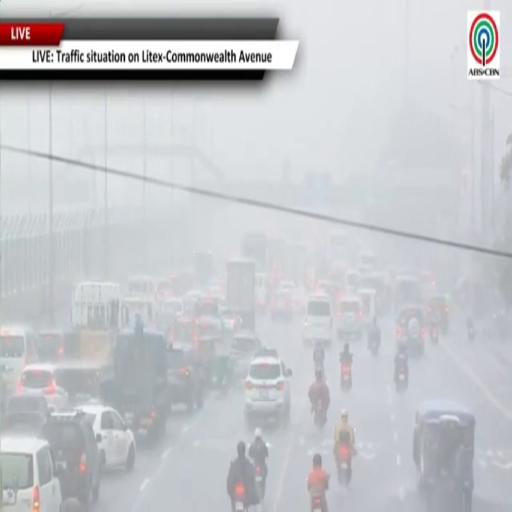car: (41, 410, 101, 509), (0, 436, 62, 511), (77, 404, 136, 471), (245, 350, 291, 428), (0, 326, 37, 393), (17, 363, 68, 410), (167, 345, 203, 411), (0, 395, 50, 435), (303, 294, 333, 345), (396, 306, 426, 355), (37, 328, 79, 362), (231, 331, 261, 378), (337, 297, 363, 340), (394, 275, 423, 312), (427, 295, 449, 333), (168, 317, 197, 344), (358, 288, 377, 326), (271, 290, 293, 322), (159, 297, 184, 324), (194, 296, 220, 318), (221, 307, 241, 332), (255, 274, 268, 311), (183, 291, 202, 314), (358, 251, 376, 273), (292, 286, 306, 314), (344, 269, 360, 293), (278, 281, 295, 292)
motorcycle: (337, 444, 351, 486), (395, 363, 408, 392), (314, 399, 326, 428), (255, 463, 264, 500), (235, 484, 247, 511), (341, 363, 351, 391), (368, 339, 380, 356), (430, 324, 438, 345), (312, 496, 323, 511), (315, 360, 324, 375), (468, 327, 475, 342)
truck: (101, 323, 169, 441), (71, 282, 127, 366), (226, 260, 255, 329), (241, 231, 267, 271), (193, 250, 214, 289), (291, 244, 307, 285)
